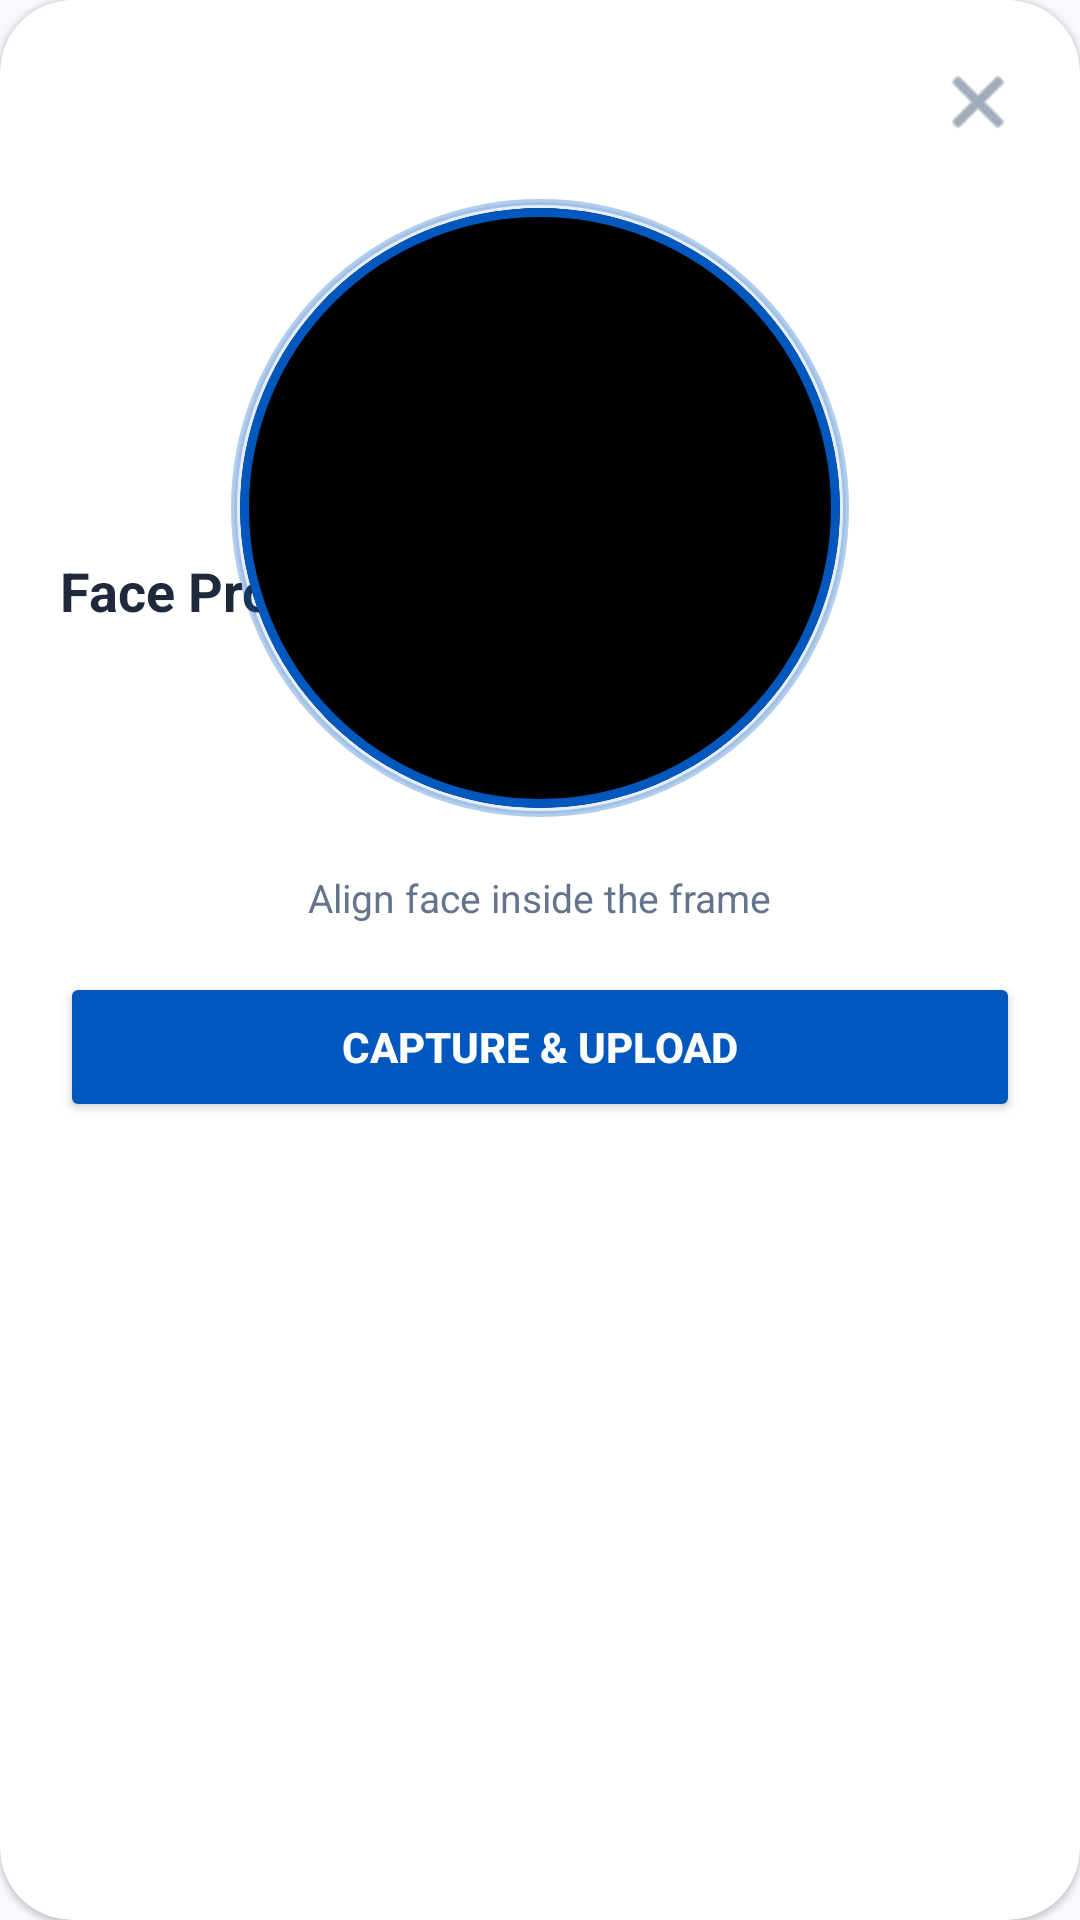

Where icons sit on this 1080px x 1920px app screen, as (x1, y1, x2, y2):
close clear cancel: (952, 76, 1004, 128)
